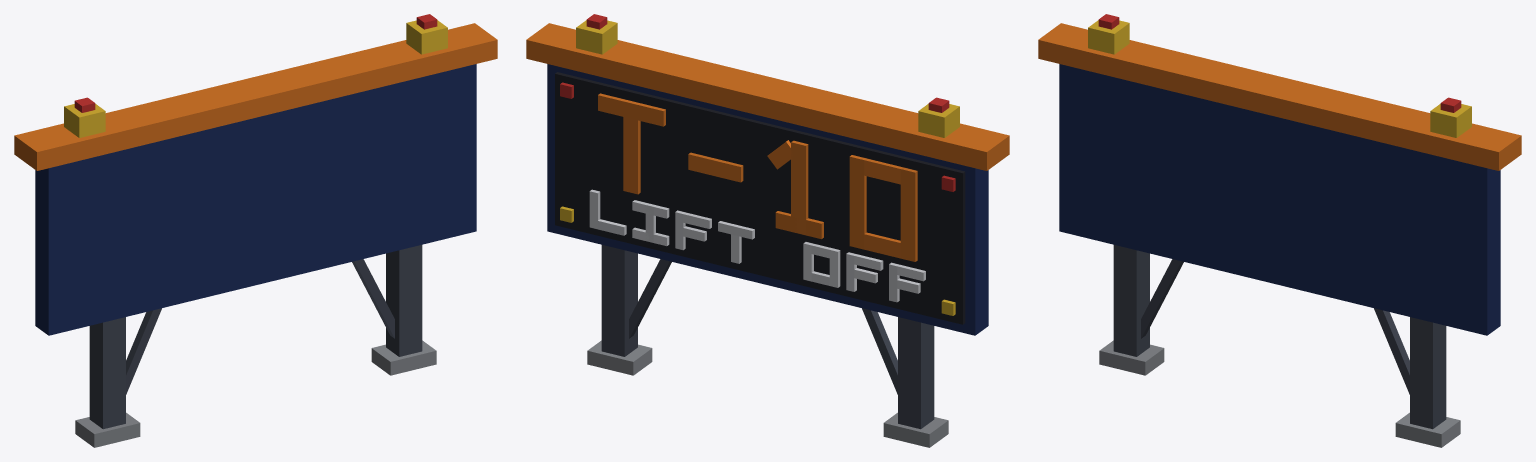
File: Decor_LaunchPad_Sign.fbx
3 views of the same model, side by side, from view 1: azimuth 30°, elevation 25°; view 2: azimuth 150°, elevation 25°; view 3: azimuth 330°, elevation 25° (orthographic).
Visible parts, largest first — view 1: Sign_Body; view 2: Sign_Body; view 3: Sign_Body.
Part boxes in pixels (x1=…): Sign_Body: x1=14, y1=14, x2=497, y2=447; Sign_Body: x1=526, y1=14, x2=1009, y2=447; Sign_Body: x1=1038, y1=14, x2=1521, y2=447.
Bounding box in the file's own units: 28 × 19.7 × 2.4.
